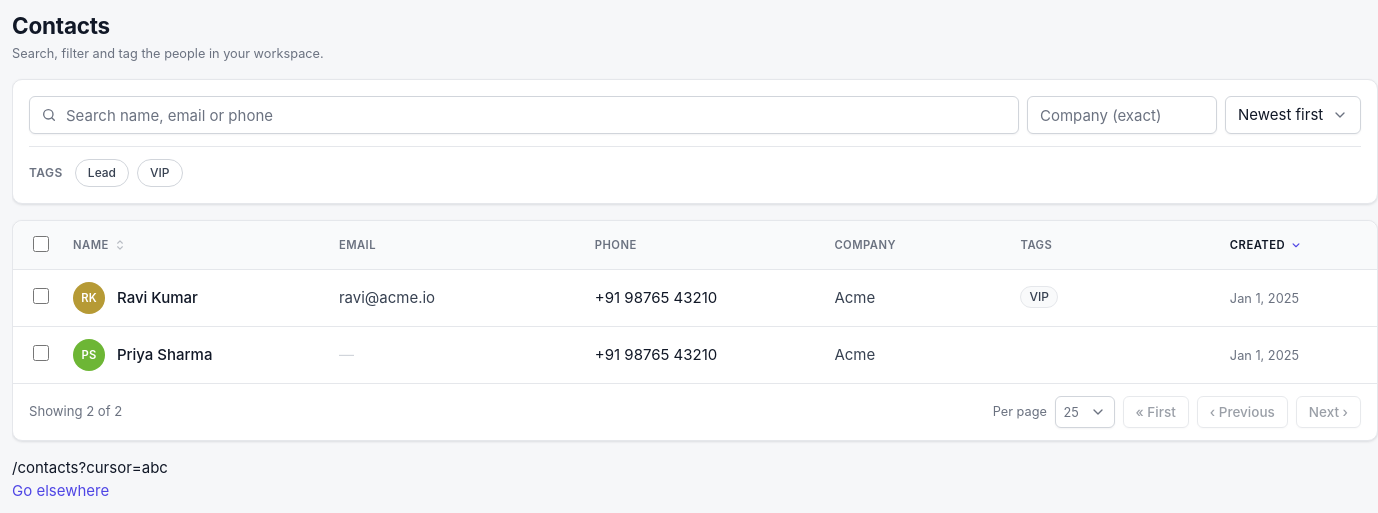
Test: ContactsPage › filters by tag and sorts, sending the right query and resetting the cursor
This screenshot has width=1378, height=513.
Check: the table is shown, box [13,221,1377,383]
Click the button "VIP" at (160, 173), box [137,159,182,187]
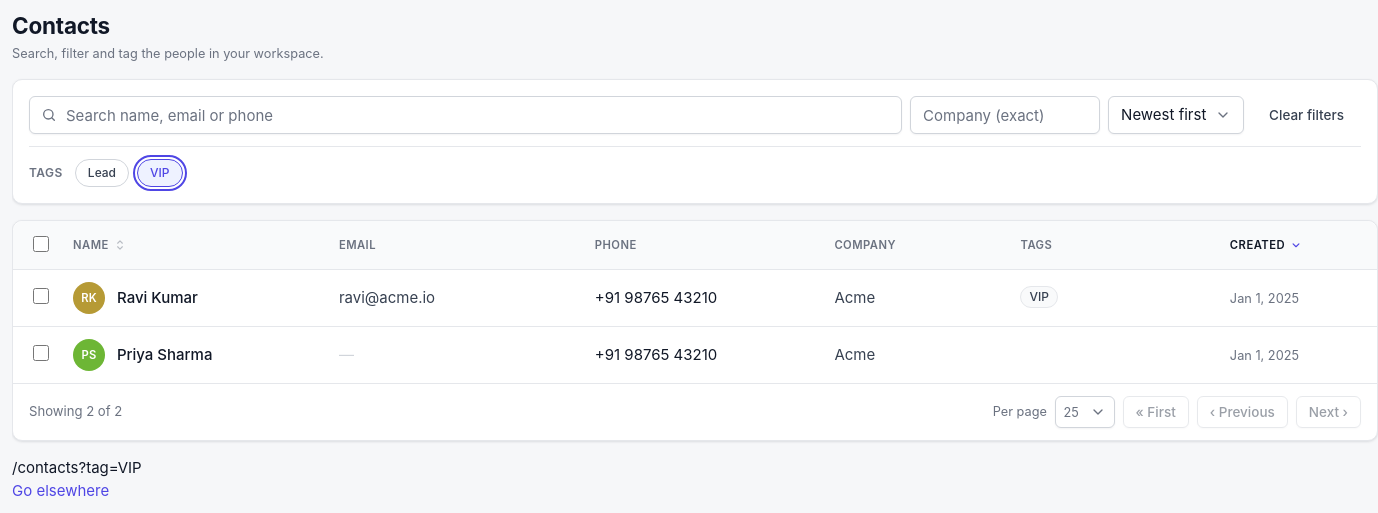
Check: the text with test id "location" reads "/contacts?tag=VIP", box [12,458,142,477]
Select "Name A–Z" in the dropdown named "Sort contacts" at (1176, 115), box [1108,96,1244,134]
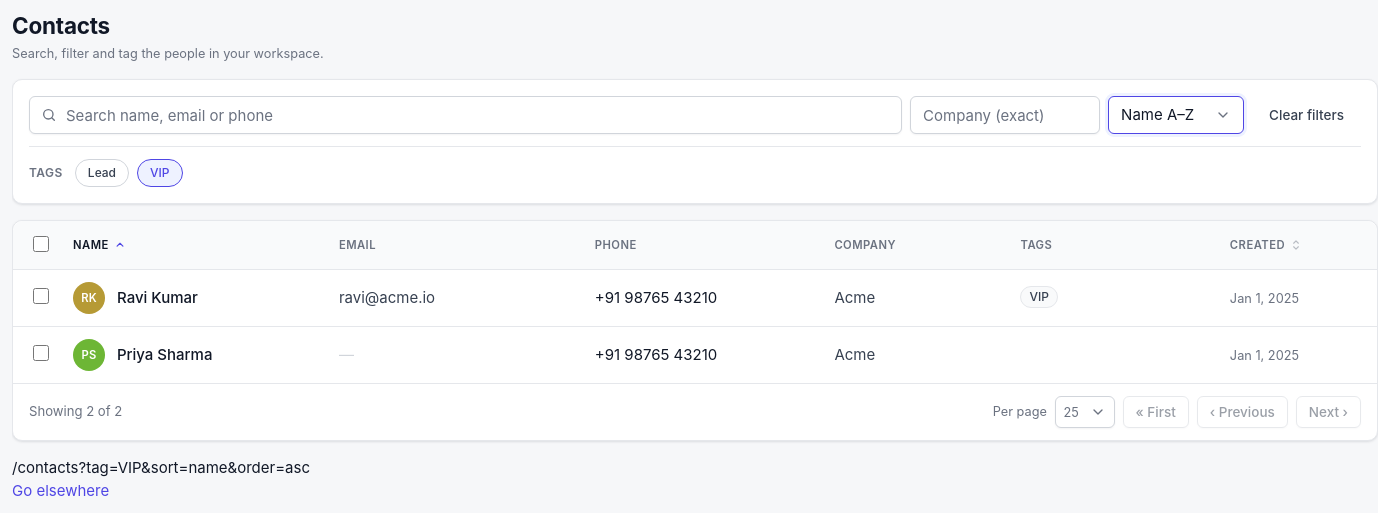
Check: the text with test id "location" reads "/contacts?tag=VIP&sort=name&order=asc", box [12,458,310,477]
